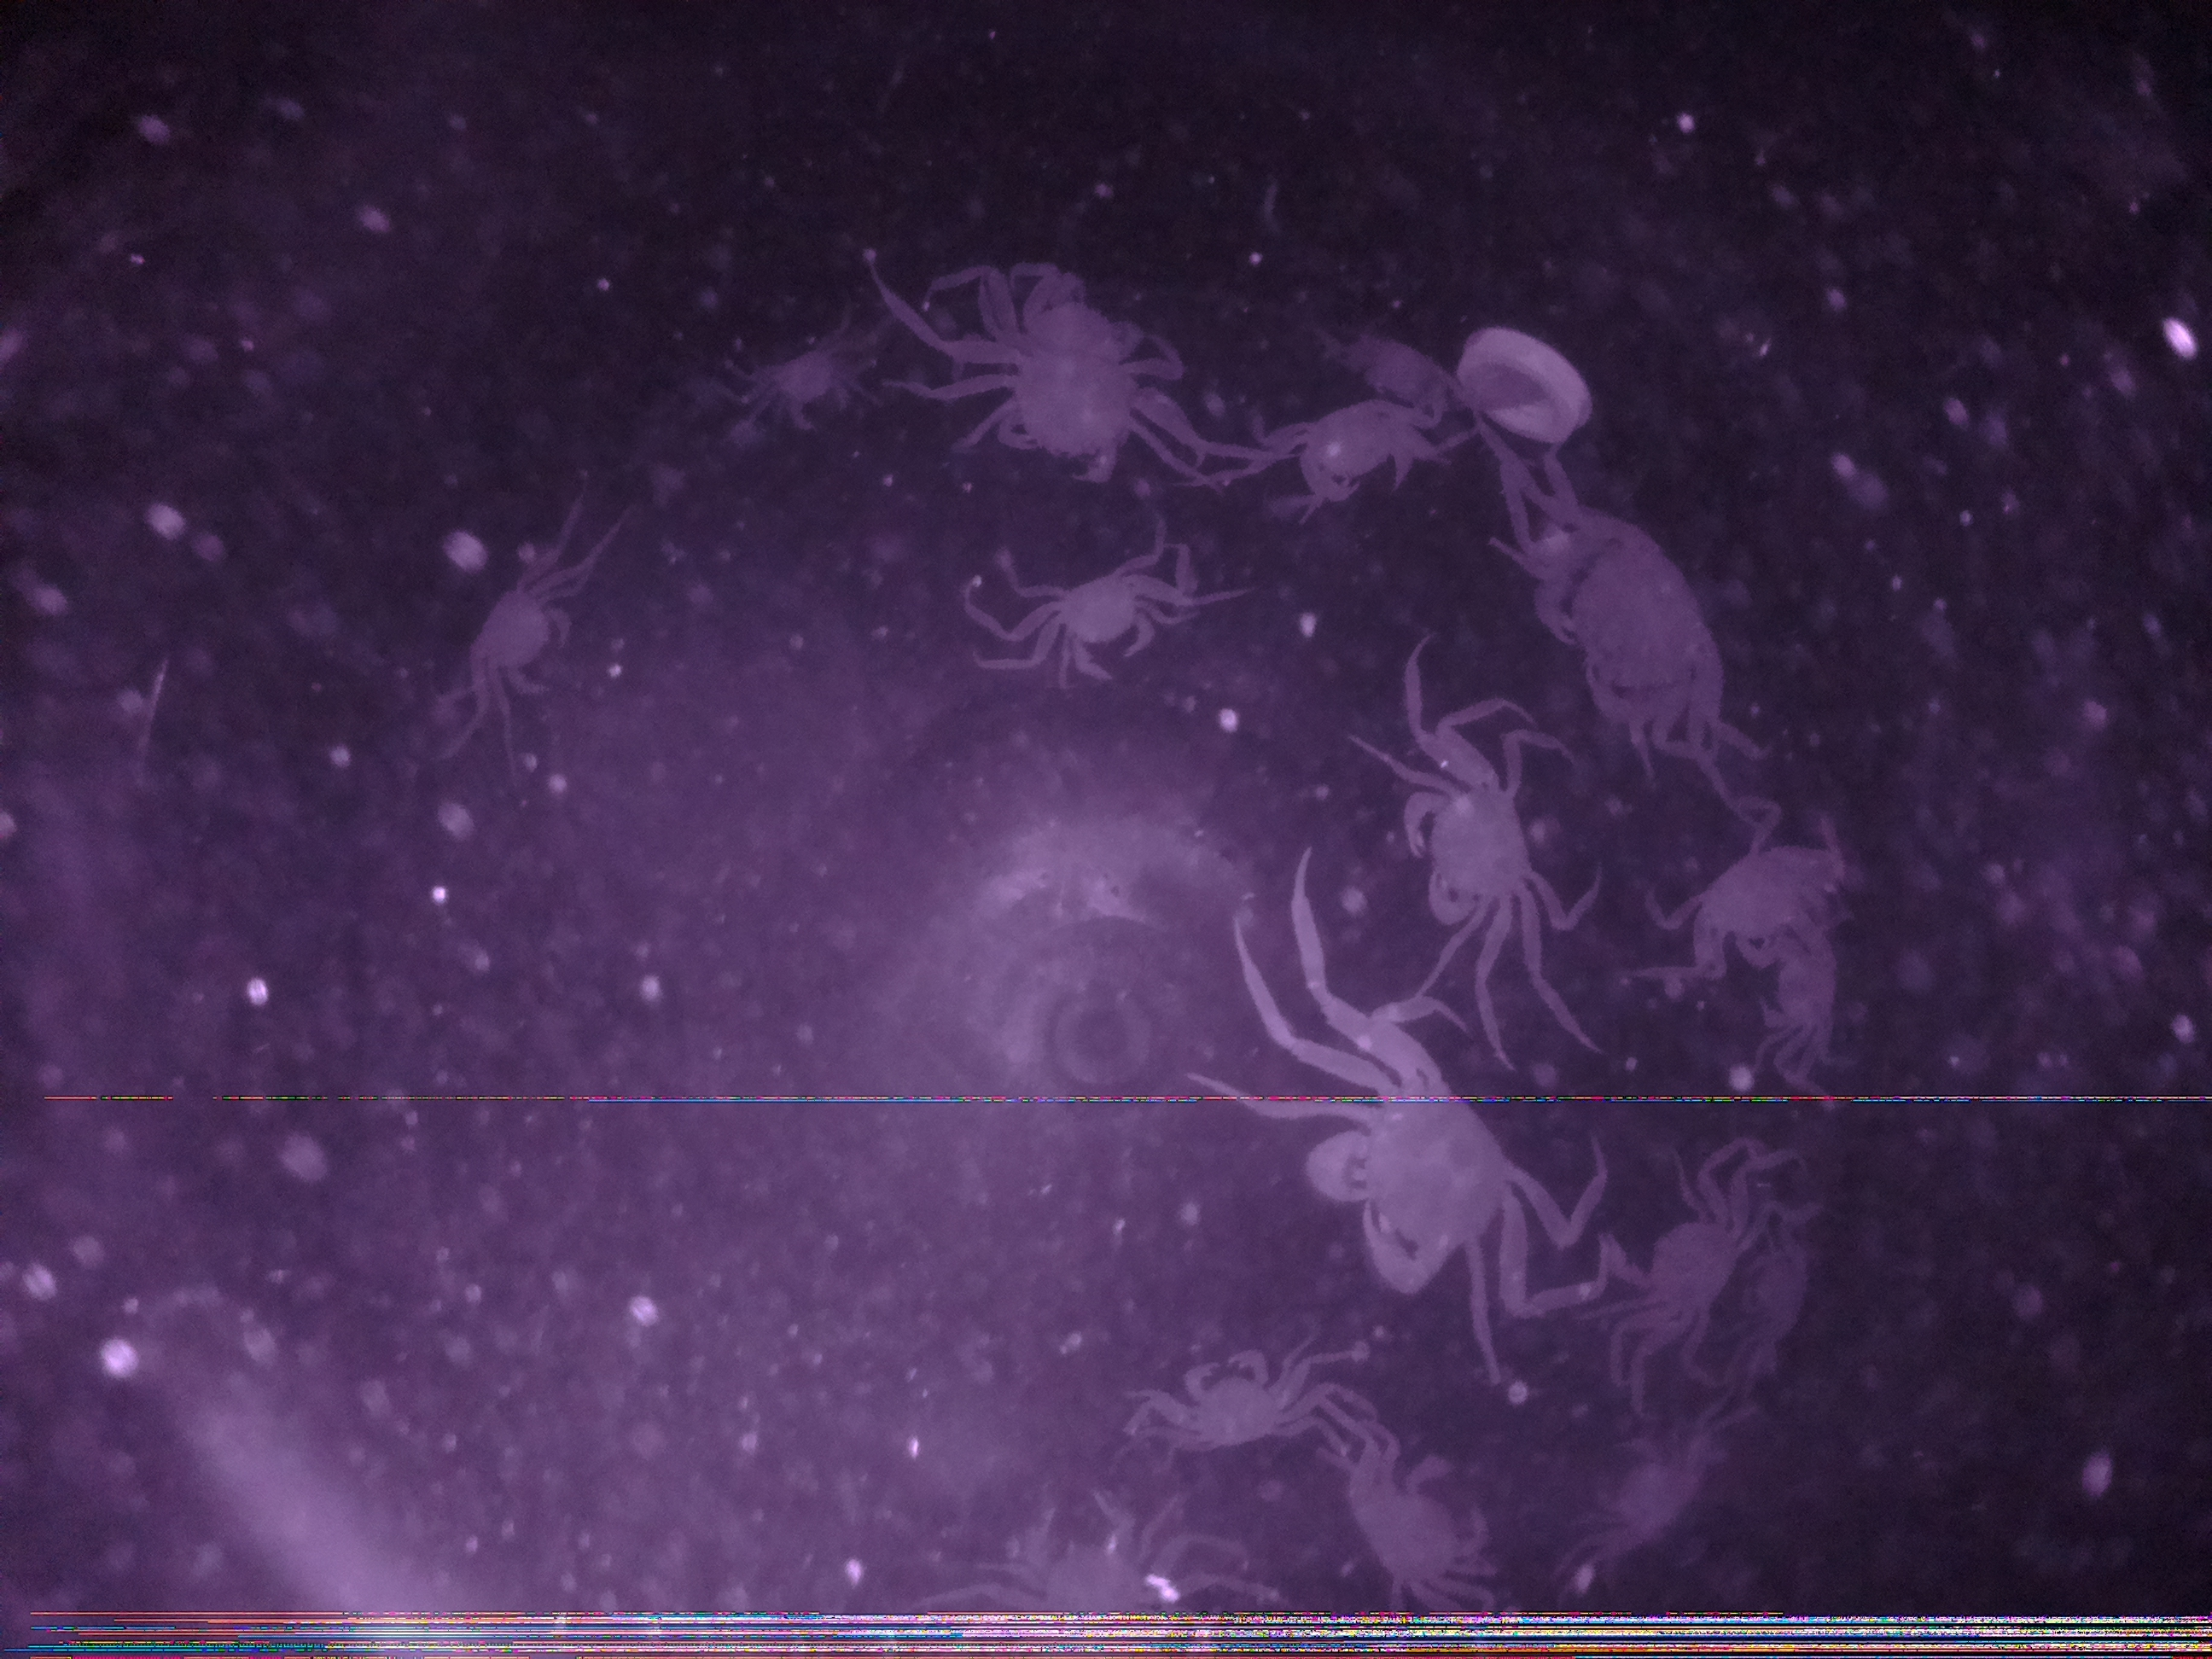Crab: (1501, 519, 1743, 744), (1590, 1143, 1777, 1366), (1641, 809, 1867, 985), (970, 315, 1186, 484), (1381, 746, 1554, 955), (1332, 1432, 1527, 1614), (1258, 369, 1449, 516), (1136, 1326, 1317, 1469), (439, 565, 585, 716), (1029, 551, 1169, 692)
